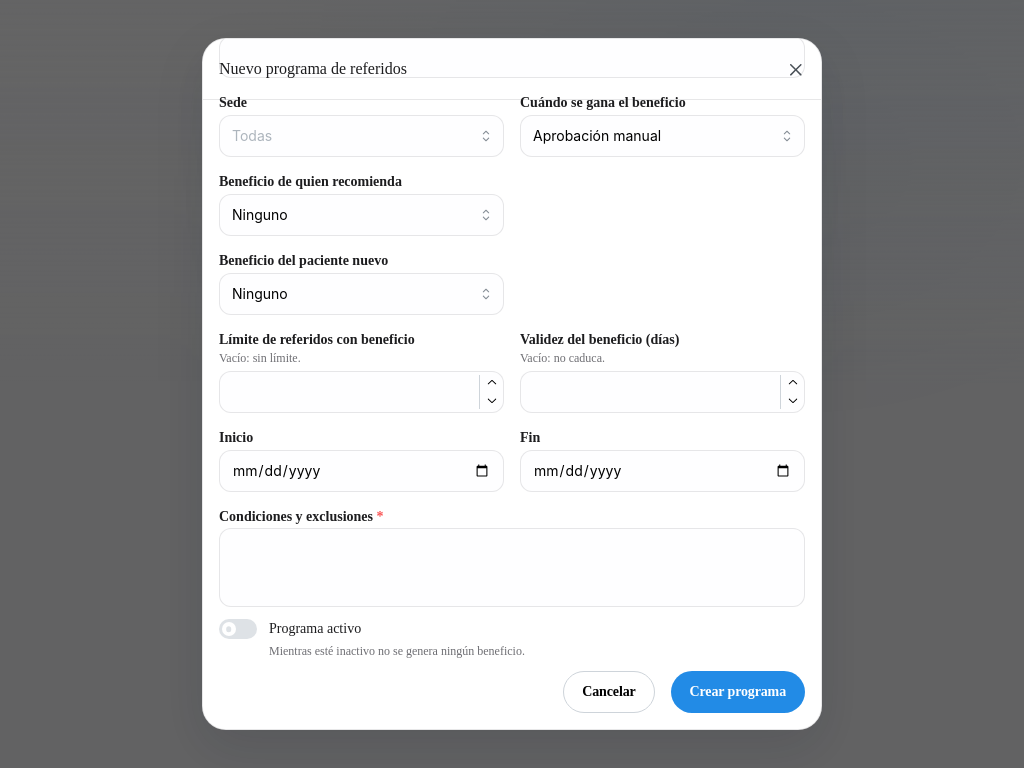
it: ReferralProgramForm › nace inactivo, sin importes y explica qué falta
The width and height of the screenshot is (1024, 768).
(page scrolled)
Expected: the switch labelled "Programa activo" is not checked, [219, 619, 525, 658]
Click the button "Crear programa". click: (738, 692)
box: [671, 671, 805, 713]
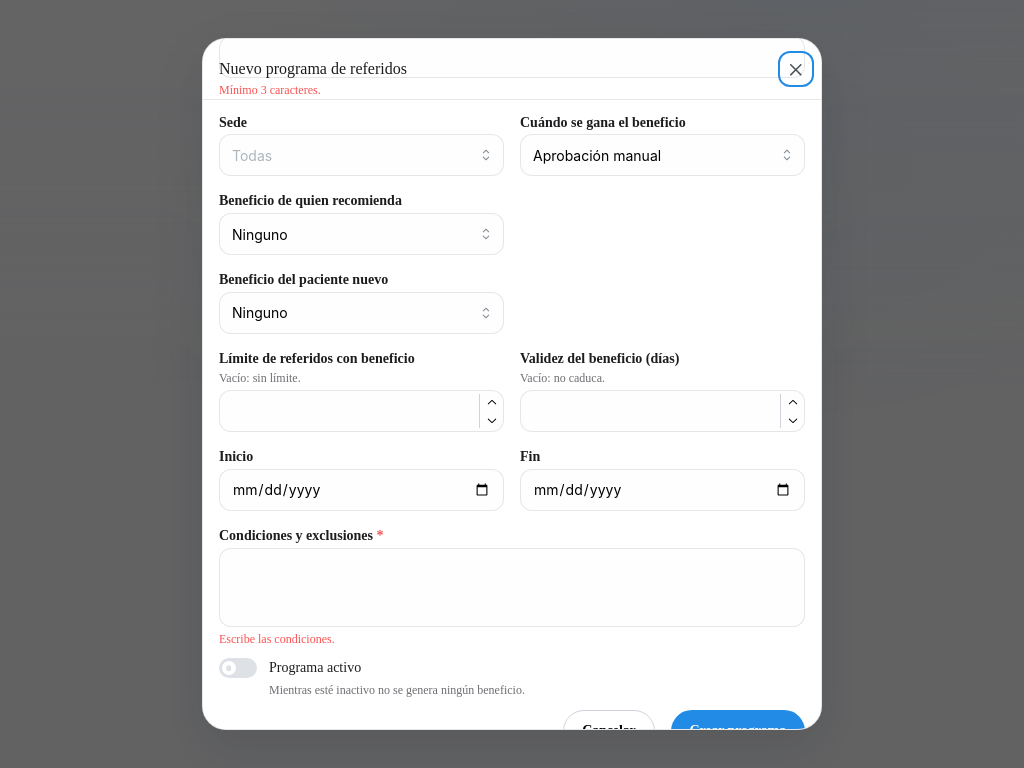
Result: the text "Mínimo 3 caracteres." is shown at [219, 83, 321, 97]
Result: the text "Escribe las condiciones." is shown at [219, 632, 335, 646]
